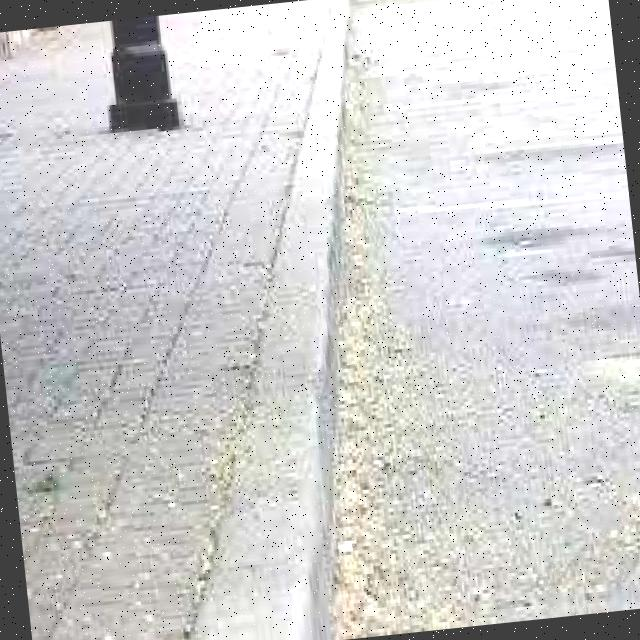curb: (170, 351, 384, 640), (249, 153, 377, 346), (297, 1, 384, 209)
